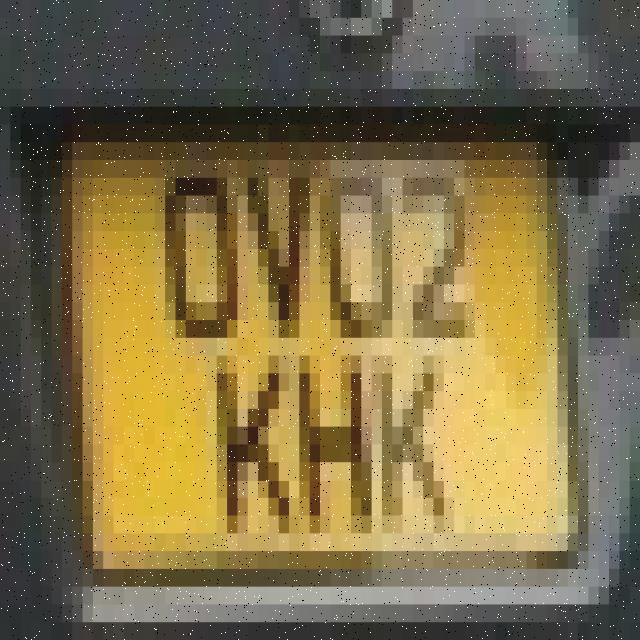licenseplate: (38, 62, 612, 598)
